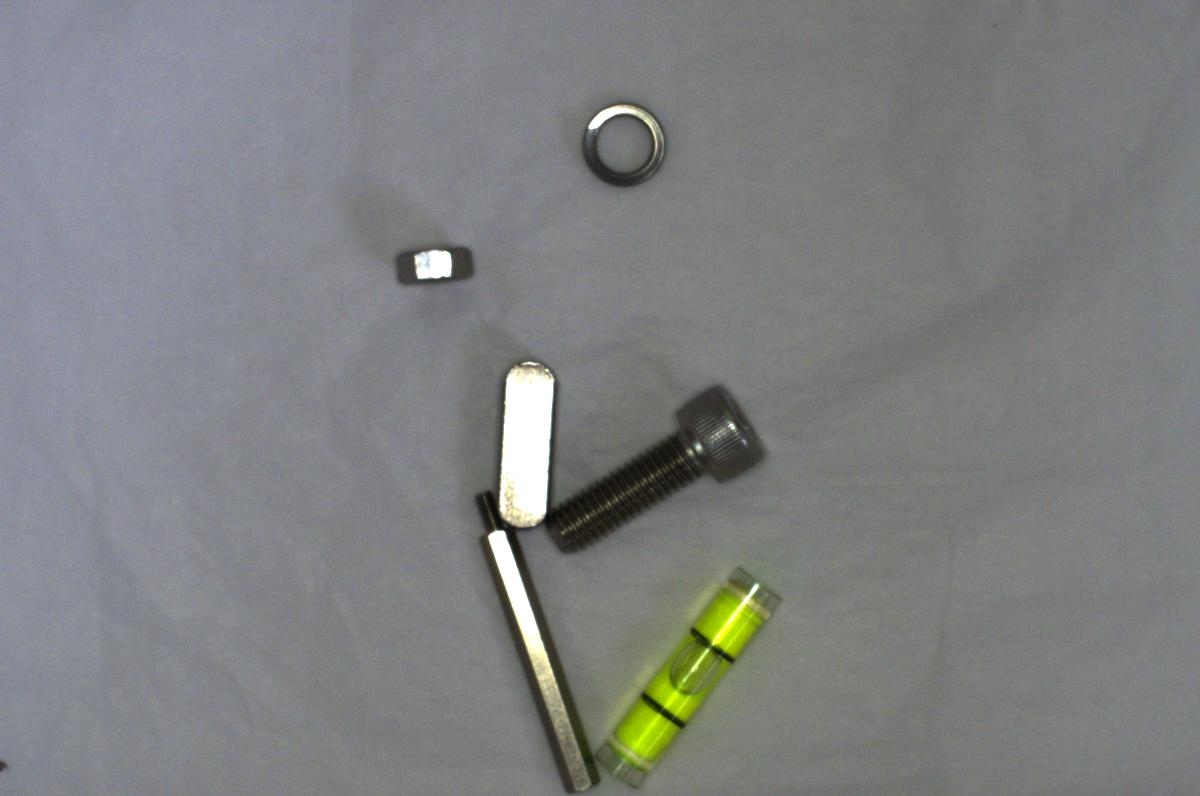Hexagon nut: (387, 229, 473, 298)
Hexagon screw: (551, 381, 781, 545)
Hexagonal steel column: (467, 485, 604, 794)
Horizontal bubble: (585, 548, 776, 795)
Keybar: (491, 353, 559, 533)
Spring washer: (571, 92, 677, 195)
